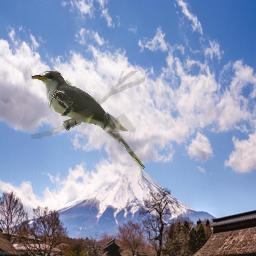Cuckoo: (31, 71, 145, 169)
